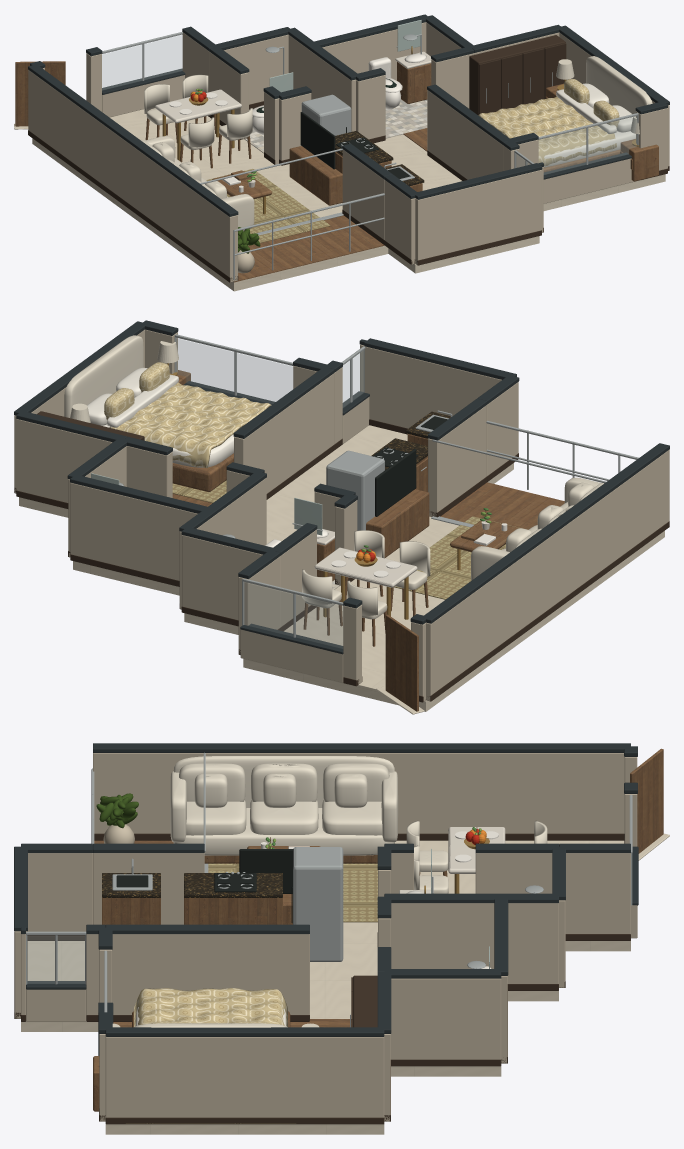
Rendered from Codename-Elements_Tower-2_Flat-05_1BHK.glb.
The picture shows the model from 3 angles, top to bottom: view 1: azimuth 30°, elevation 25°; view 2: azimuth 150°, elevation 25°; view 3: azimuth 270°, elevation 25°; orthographic projection. The views are drawn at different scales.
Visible parts, largest first — view 1: Ivory masonry.008, Apartment foundation, Ivory masonry.010, Soft jacquard duvet with folds.003, Ivory masonry.017, Cutaway window glazing, Cutaway window glazing.001, Ivory masonry.024, Charcoal wall cut.008, Living woven carpet, Ivory masonry.002, Window sill (+59 smaller); view 2: Ivory masonry.008, Apartment foundation, Ivory masonry.002, Ivory masonry.010, Soft jacquard duvet with folds.003, Ivory masonry.017, Ivory masonry, Cutaway window glazing, Ivory masonry.004, Ivory masonry.024, Cutaway window glazing.001, Charcoal wall cut.008 (+50 smaller); view 3: Ivory masonry.008, Ivory masonry.015, Apartment foundation, Ivory masonry.017, Ivory masonry.001, Ivory masonry.020, Charcoal wall cut.008, Ivory masonry.005, Brushed refrigerator, Soft jacquard duvet with folds.003, Ivory masonry.009, Ivory masonry.003 (+55 smaller).
Boxes of the visible parts, box(x1,y1,x2,y2) form: Ivory masonry.008: box(28, 70, 237, 282); Apartment foundation: box(32, 108, 665, 291); Ivory masonry.010: box(415, 170, 541, 264); Soft jacquard duvet with folds.003: box(478, 96, 616, 166); Ivory masonry.017: box(427, 90, 503, 179); Cutaway window glazing: box(539, 116, 636, 174); Cutaway window glazing.001: box(102, 35, 182, 90); Ivory masonry.024: box(342, 149, 384, 239); Charcoal wall cut.008: box(28, 64, 238, 216); Living woven carpet: box(206, 169, 330, 245); Ivory masonry.002: box(322, 22, 426, 80); Window sill: box(543, 158, 639, 203); Ivory masonry.008: box(426, 449, 669, 701); Apartment foundation: box(19, 425, 664, 711); Ivory masonry.002: box(70, 482, 197, 580); Ivory masonry.010: box(364, 346, 501, 428); Soft jacquard duvet with folds.003: box(109, 382, 271, 467); Ivory masonry.017: box(234, 373, 333, 493); Ivory masonry: box(16, 419, 112, 502); Cutaway window glazing: box(176, 338, 292, 403); Ivory masonry.004: box(182, 535, 262, 620); Ivory masonry.024: box(428, 405, 486, 516); Cutaway window glazing.001: box(244, 583, 342, 648); Charcoal wall cut.008: box(424, 443, 669, 623); Ivory masonry.008: box(93, 753, 624, 833); Ivory masonry.015: box(105, 1036, 384, 1117); Apartment foundation: box(21, 840, 630, 1134); Ivory masonry.017: box(112, 934, 309, 1014); Ivory masonry.001: box(390, 978, 501, 1059); Ivory masonry.020: box(390, 903, 558, 983); Charcoal wall cut.008: box(93, 743, 630, 752); Ivory masonry.005: box(565, 853, 630, 933); Brushed refrigerator: box(293, 847, 343, 961); Soft jacquard duvet with folds.003: box(134, 988, 287, 1026); Ivory masonry.009: box(27, 853, 92, 931); Ivory masonry.003: box(507, 903, 558, 983).
Bounding box in the file's own units: 7.86 × 1.37 × 7.46.
25 materials, 6 textured.
